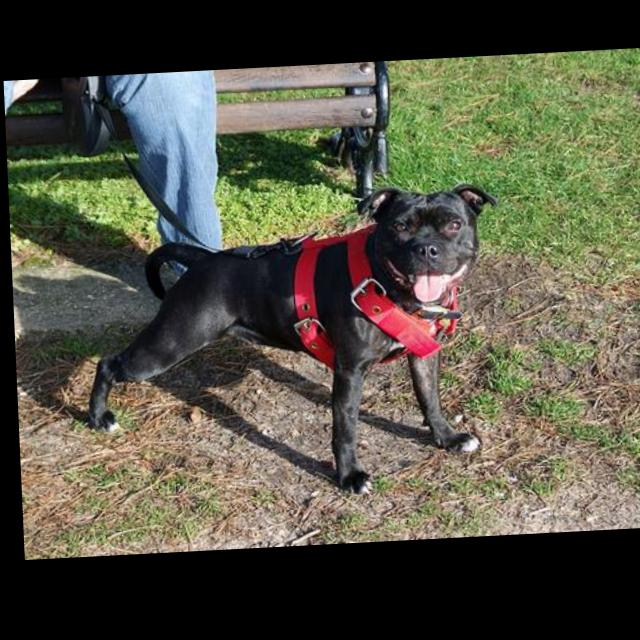staffford: (76, 185, 507, 511)
